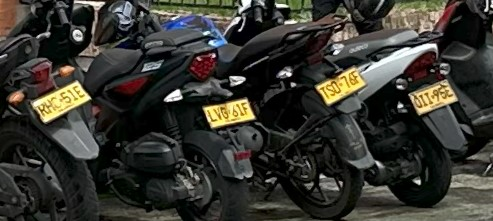number plate: (409, 79, 457, 114), (202, 98, 255, 128)
